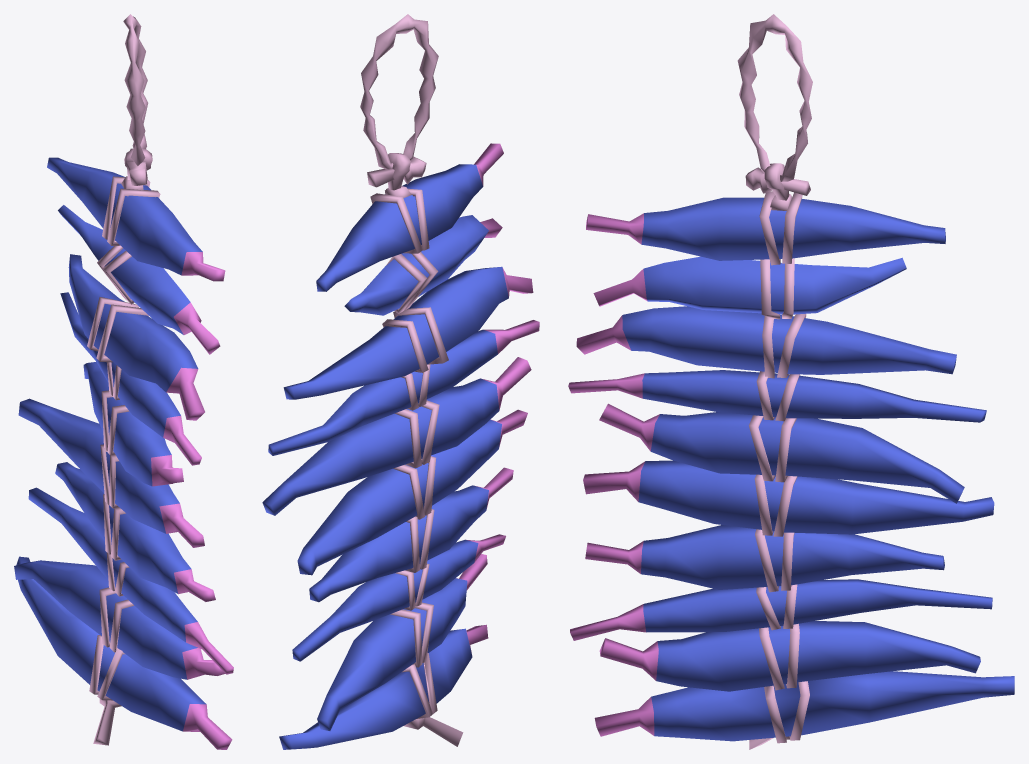
The model's file is Gochu.fbx.
3 renders of one model, left to right at view 1: azimuth 30°, elevation 25°; view 2: azimuth 150°, elevation 25°; view 3: azimuth 270°, elevation 25°, orthographic. The views are drawn at different scales.
Visible parts, largest first — view 1: Cube.009; view 2: Cube.009; view 3: Cube.009.
Boxes of the visible parts, <box> form: Cube.009: <box>14,14,233,749</box>; Cube.009: <box>262,14,539,749</box>; Cube.009: <box>568,14,1014,749</box>.
Bounding box in the file's own units: 6.74 × 47.63 × 25.6.
